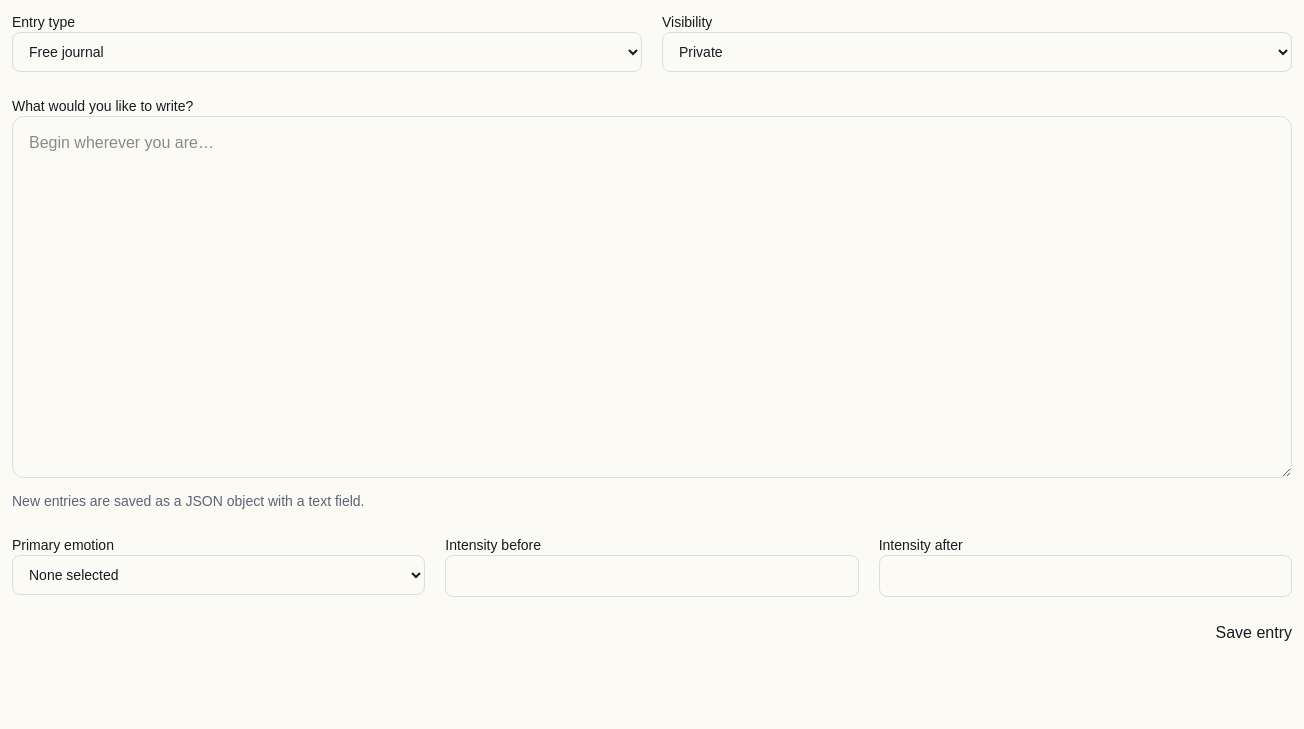
diary creation recipients › preserves selection across visibility changes but omits IDs when private
The width and height of the screenshot is (1304, 729).
Later steps or results of the test are not shown.
Type "A diary entry" into the text box with placeholder "Begin wherever you are…" at [652, 297], box [12,116,1292,478]
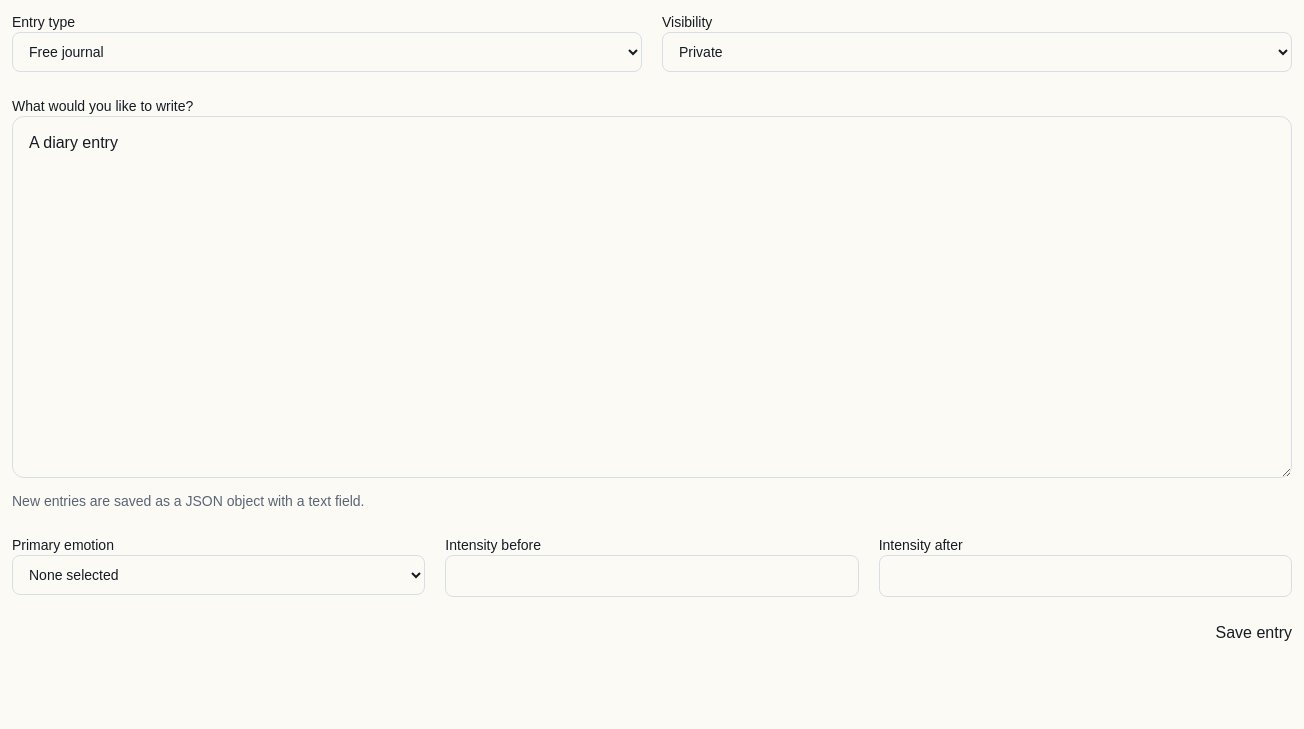
Select "Share with counselor" in the dropdown labelled "Visibility" at [977, 52], box [662,32,1292,72]
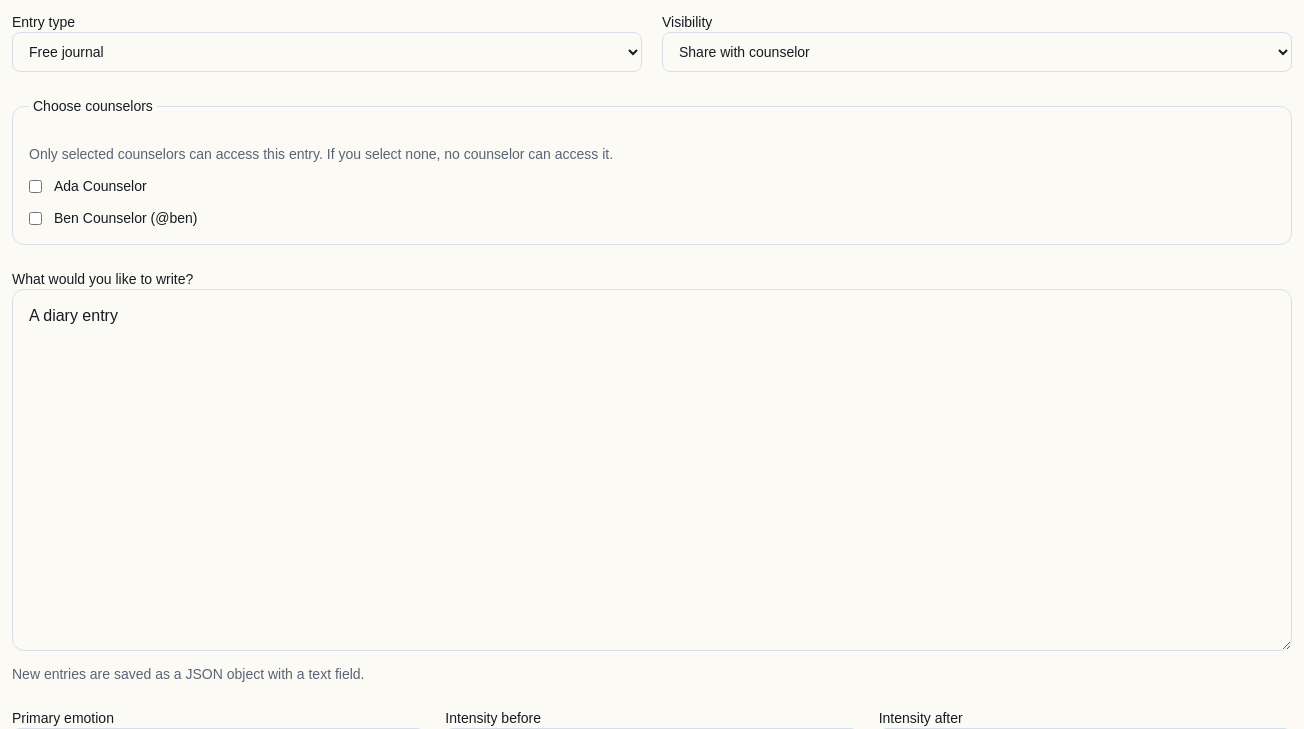
Click the checkbox labelled "Ada Counselor" at [36, 186], box [29,180,42,192]
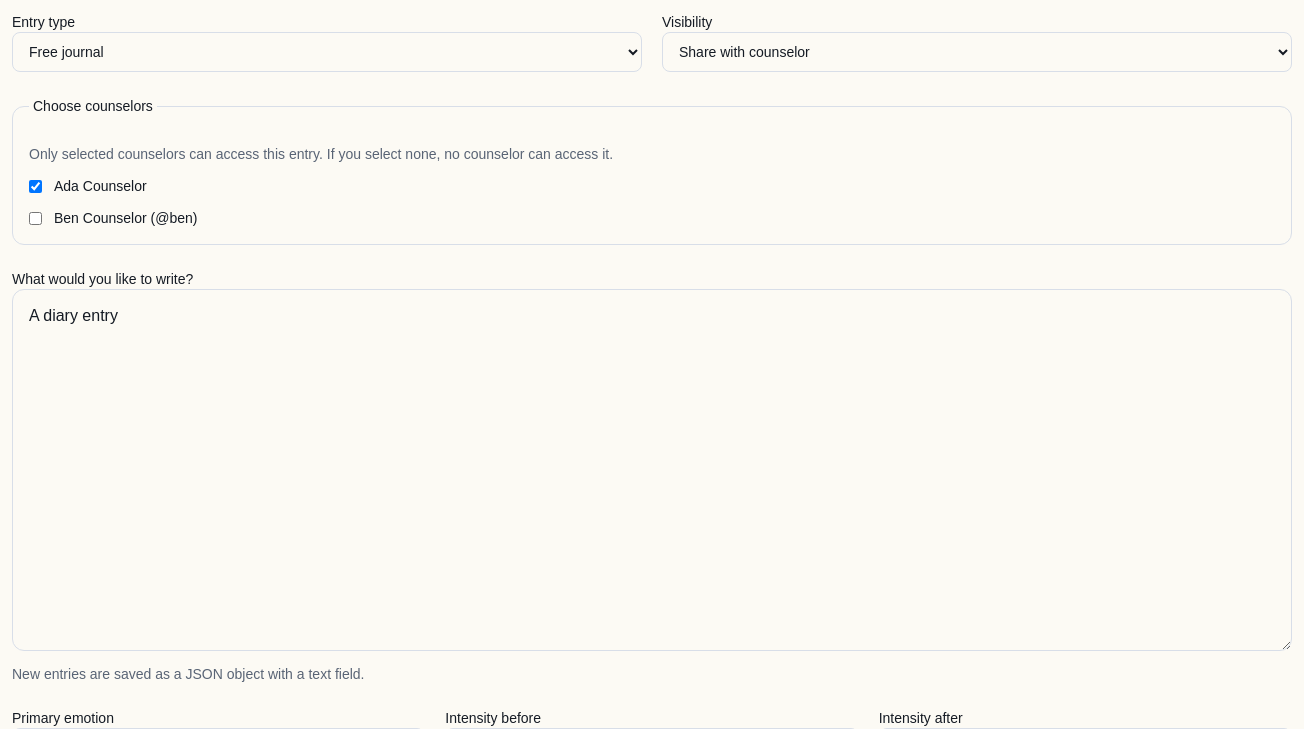
Select "Private" in the dropdown labelled "Visibility" at [977, 52], box [662,32,1292,72]
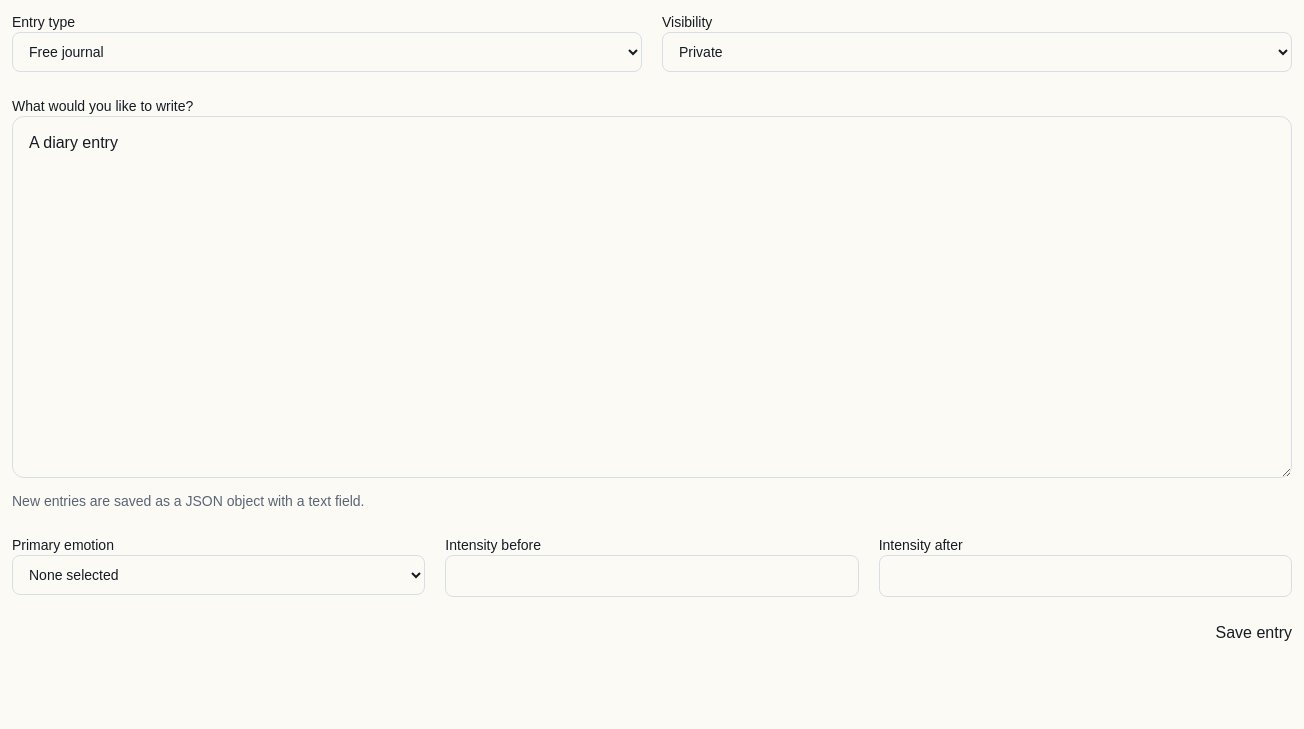
expect the checkbox is gone: met
Select "Share with counselor" in the dropdown labelled "Visibility" at [977, 52], box [662,32,1292,72]
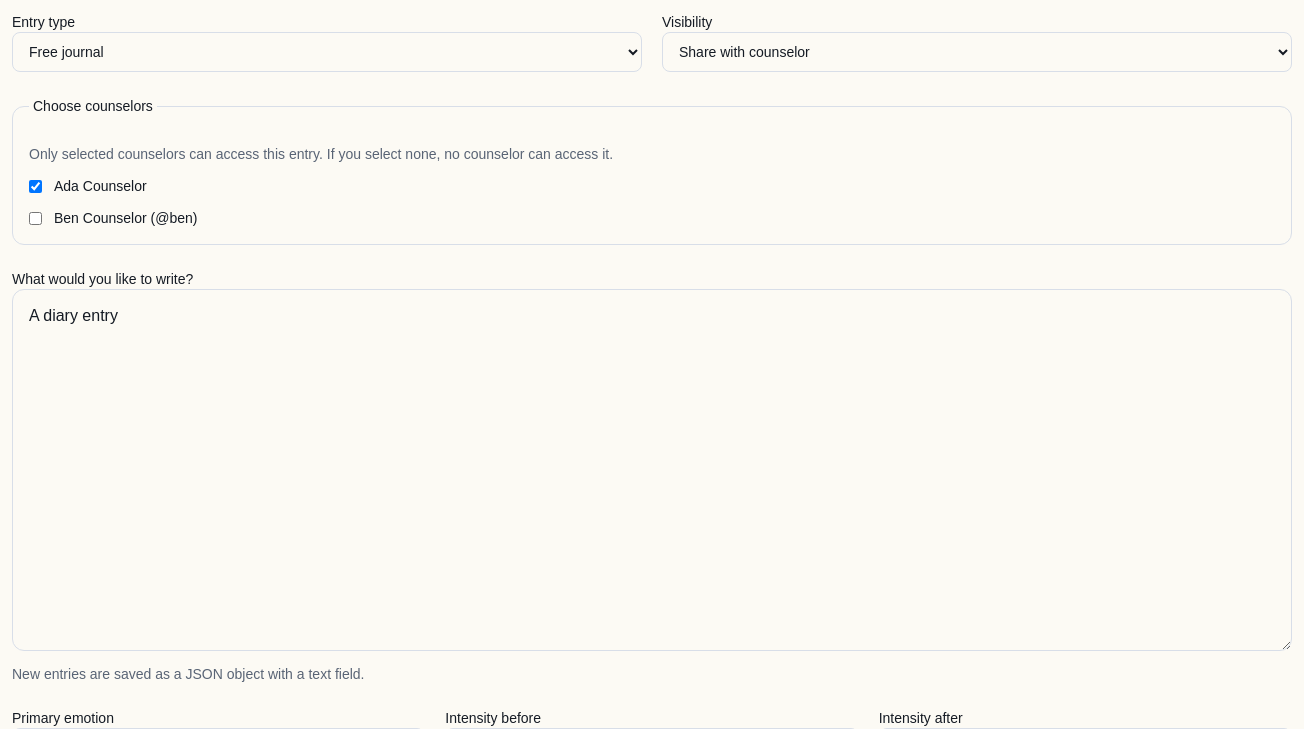
expect the checkbox labelled "Ada Counselor" is checked: met, box [29,180,42,192]
